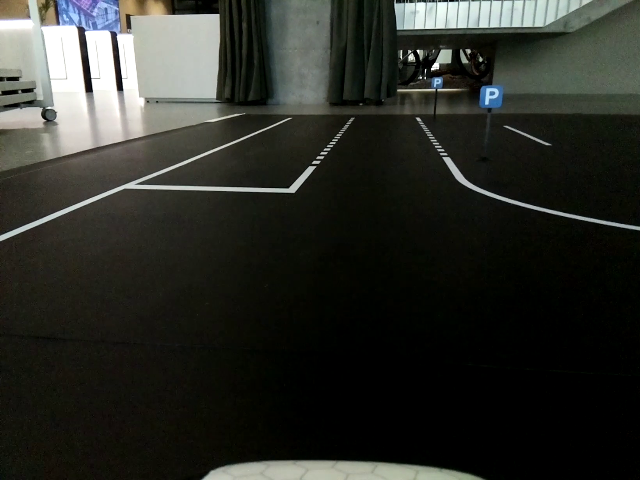park: (479, 86, 502, 109), (434, 78, 442, 88)
